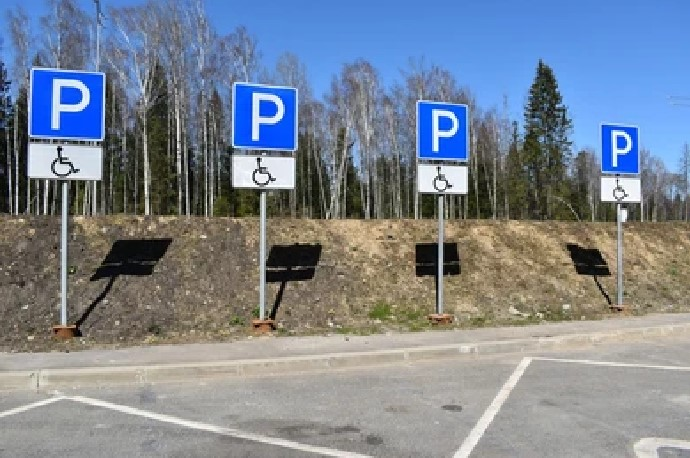Parking: (229, 78, 302, 154)
